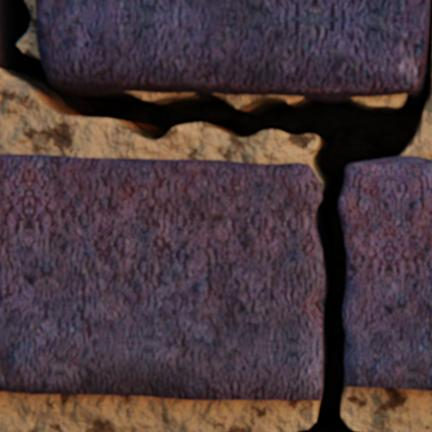brick: (37, 0, 429, 98)
broken_brick: (0, 154, 323, 399), (338, 156, 431, 389)
crack: (0, 0, 431, 431)
